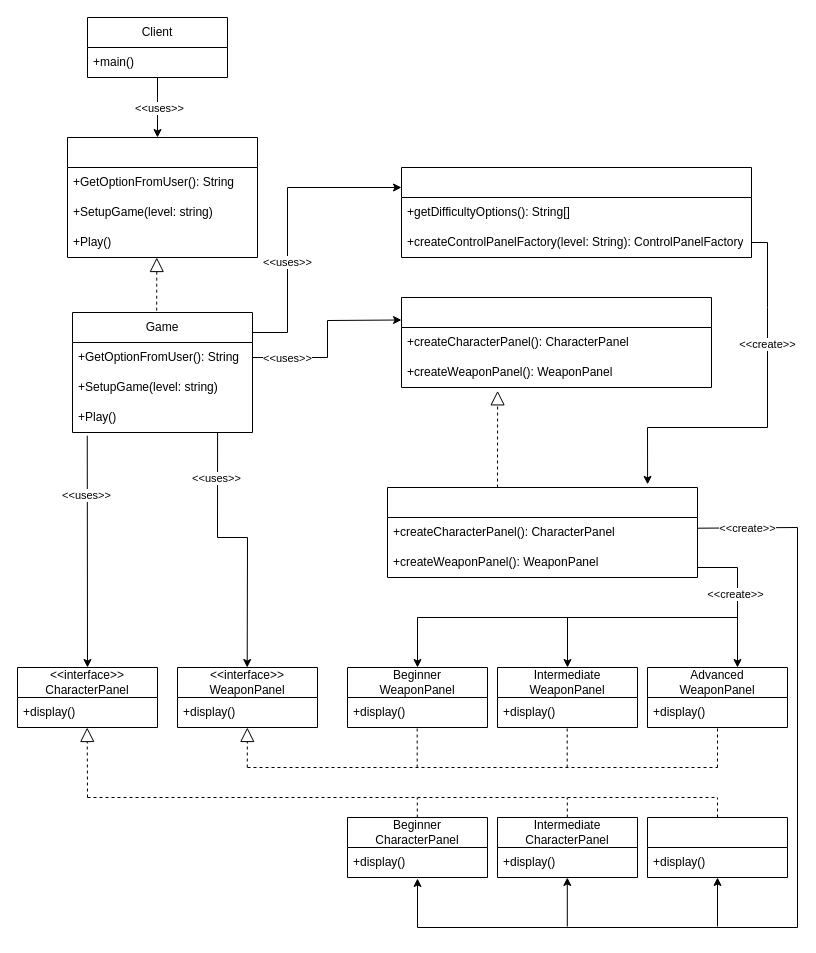
Image size: 816x953. Some labels were removed from this diagram. The box of each missing label's shape, as (x1, y1, x2, y2) in pixels:
<<interface>> ControlPanelFactory: (400, 296, 712, 388)
<<interface>> Game: (66, 136, 258, 258)
Advanced CharacterPanel: (646, 816, 788, 878)
ControlPanelFactory: (386, 486, 698, 578)
Utility: (400, 166, 752, 258)
